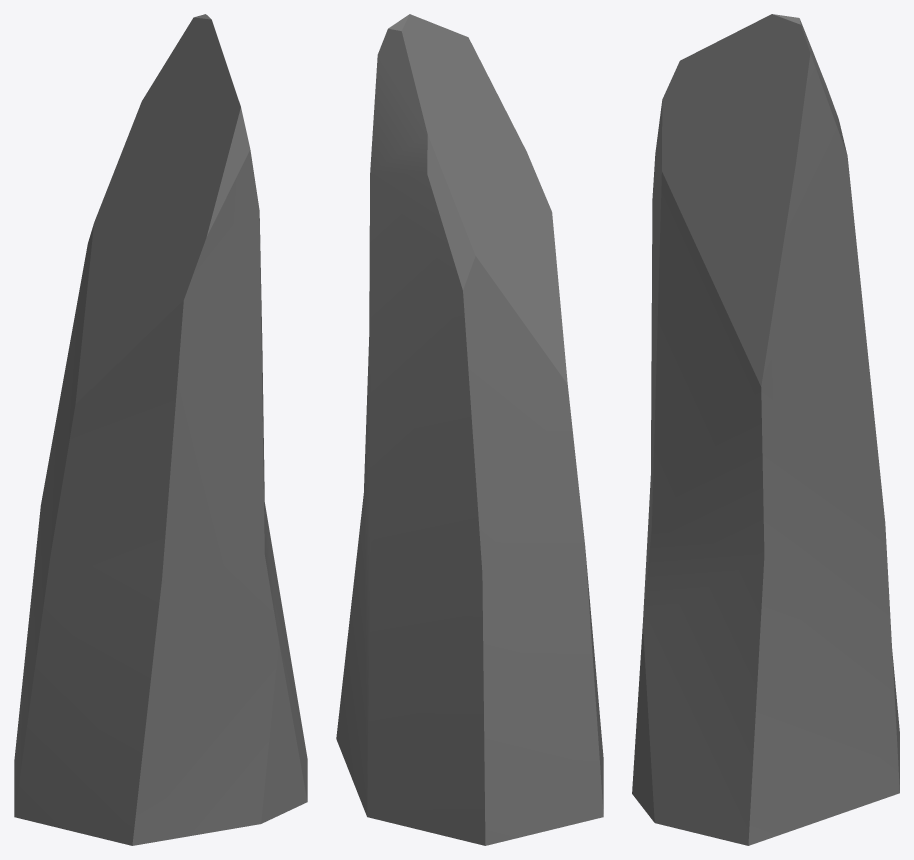
Rendered from rock19.fbx.
3 renders of one model, left to right at view 1: azimuth 30°, elevation 25°; view 2: azimuth 150°, elevation 25°; view 3: azimuth 270°, elevation 25°, orthographic. The views are drawn at different scales.
Visible parts, largest first — view 1: rock16; view 2: rock16; view 3: rock16.
Boxes of the visible parts, box(x1,y1,x2,y2) form: rock16: box(14, 14, 307, 845); rock16: box(336, 14, 603, 845); rock16: box(632, 14, 899, 845).
Bounding box in the file's own units: 1711 × 4391 × 1352.
